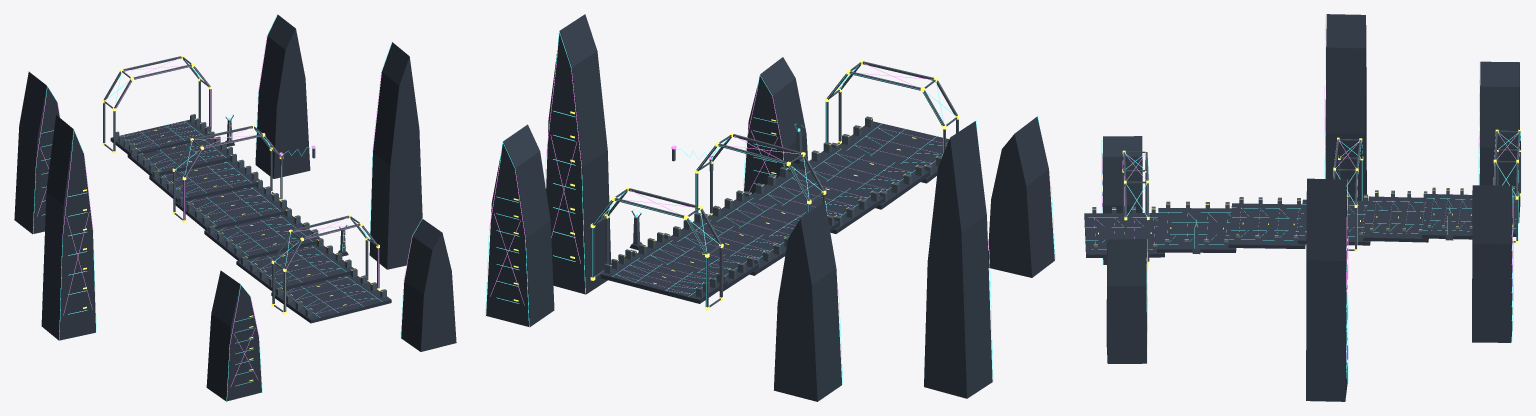
Rendered from route_batch_18.glb.
3 renders of one model, left to right at view 1: azimuth 30°, elevation 25°; view 2: azimuth 150°, elevation 25°; view 3: azimuth 270°, elevation 25°, orthographic. The views are drawn at different scales.
Parts seen in each view (by area): view 1: route_batch_18; view 2: route_batch_18; view 3: route_batch_18.
Boxes of the visible parts, x1,y1,x2,y2 form: route_batch_18: [14, 14, 456, 401]; route_batch_18: [485, 14, 1055, 401]; route_batch_18: [1084, 14, 1521, 401].
Size of the model in its own units: 454 by 254 by 467.
